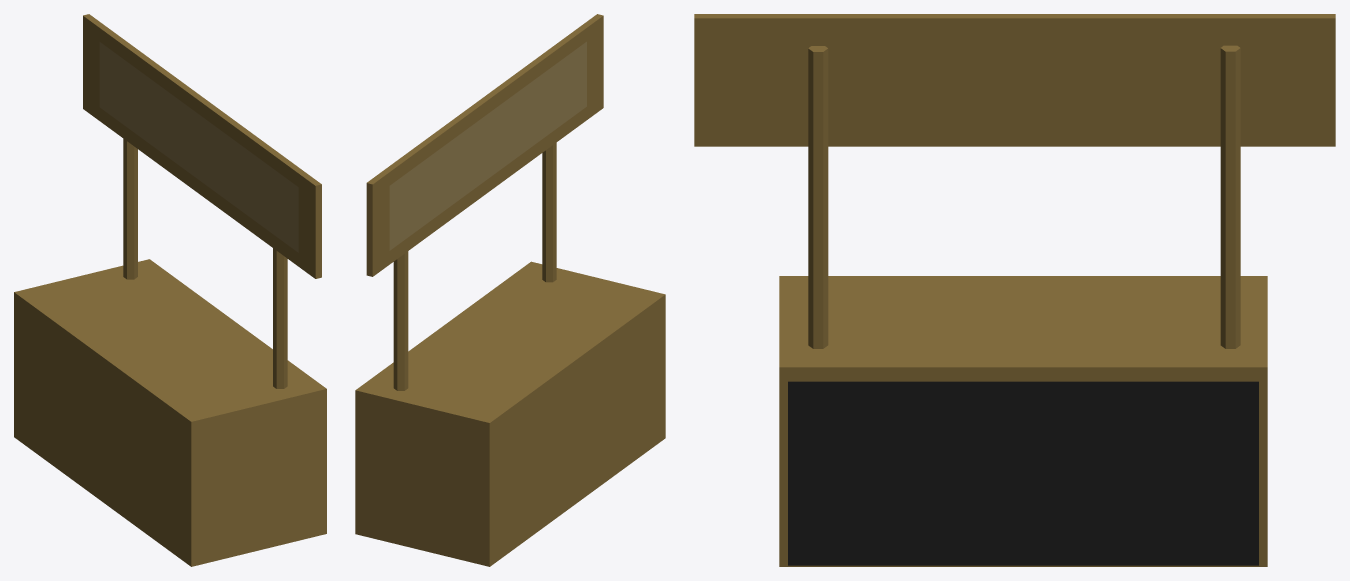
File: stand.fbx
3 views of the same model, side by side, from view 1: azimuth 30°, elevation 25°; view 2: azimuth 150°, elevation 25°; view 3: azimuth 270°, elevation 25° (orthographic). The views are drawn at different scales.
Parts seen in each view (by area): view 1: Cube.010; view 2: Cube.010; view 3: Cube.010.
Boxes of the visible parts, x1=… form: Cube.010: x1=14, y1=14, x2=326, y2=566; Cube.010: x1=355, y1=14, x2=665, y2=566; Cube.010: x1=694, y1=14, x2=1335, y2=566.
Bounding box in the file's own units: 497 × 1334 × 1478.
